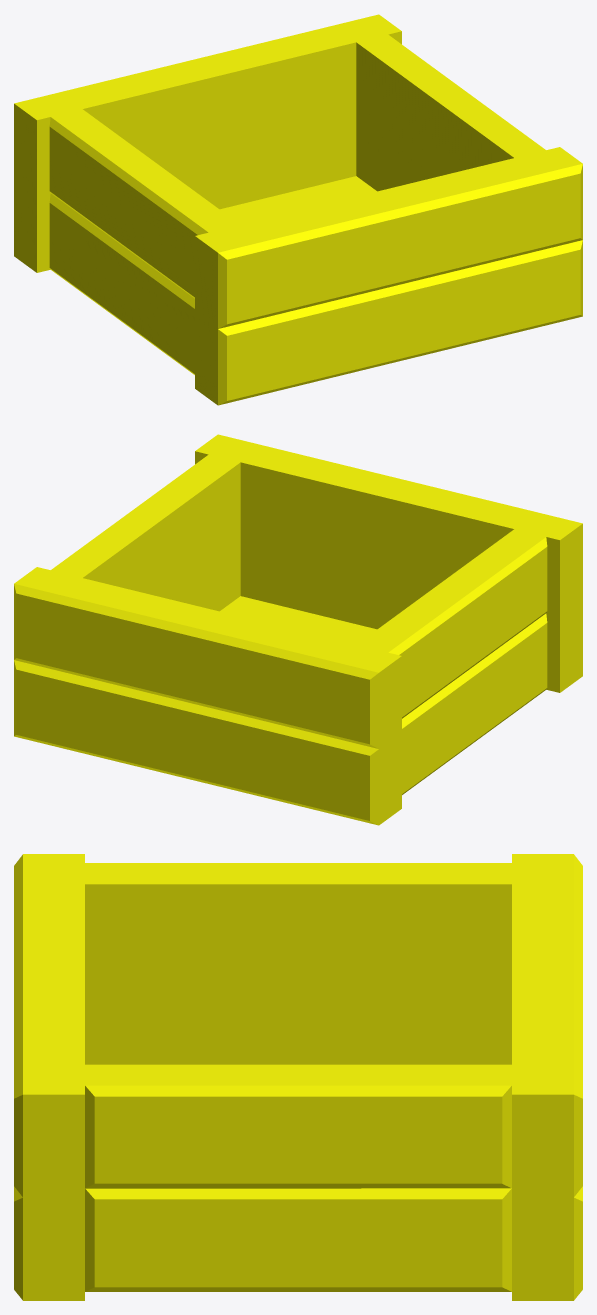
Rendered from crate.gltf.
3 renders of one model, top to bottom at view 1: azimuth 30°, elevation 25°; view 2: azimuth 150°, elevation 25°; view 3: azimuth 270°, elevation 25°, orthographic. The views are drawn at different scales.
Parts seen in each view (by area): view 1: crate; view 2: crate; view 3: crate.
Part boxes in pixels (bbox=[...]): crate: bbox=[14, 14, 582, 405]; crate: bbox=[14, 434, 582, 825]; crate: bbox=[14, 854, 582, 1300].
Bounding box in the file's own units: 2 × 0.8 × 2.
Materials: 1 (1 with a texture image).
